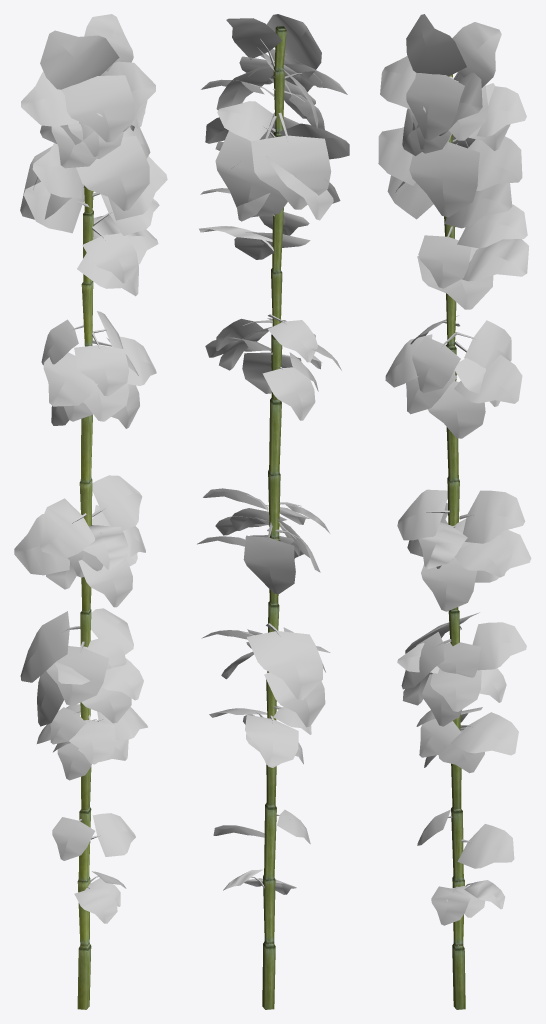
The model's file is D_Tree_002_b.fbx.
3 views of the same model, side by side, from view 1: azimuth 30°, elevation 25°; view 2: azimuth 150°, elevation 25°; view 3: azimuth 330°, elevation 25° (orthographic).
Parts seen in each view (by area): view 1: D_Tree_002_b_leaf, D_Tree_002_b; view 2: D_Tree_002_b_leaf, D_Tree_002_b; view 3: D_Tree_002_b_leaf, D_Tree_002_b.
Boxes of the visible parts, x1,y1,x2,y2 form: D_Tree_002_b_leaf: [14, 14, 167, 923]; D_Tree_002_b: [77, 186, 93, 1009]; D_Tree_002_b_leaf: [197, 14, 349, 894]; D_Tree_002_b: [262, 26, 286, 1009]; D_Tree_002_b_leaf: [378, 14, 531, 925]; D_Tree_002_b: [444, 74, 465, 1009].
Size of the model in its own units: 1.08 by 7.2 by 0.817.
